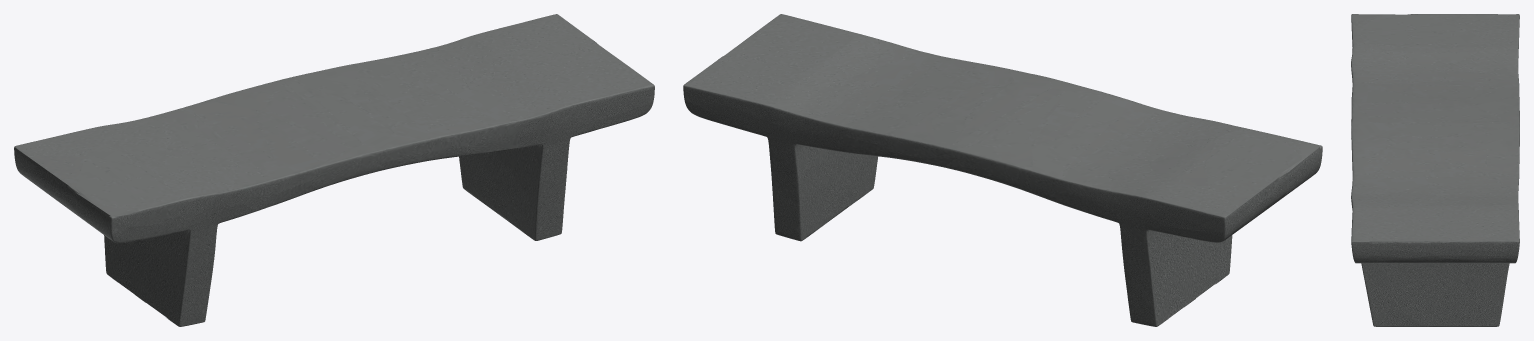
Rendered from stoneBench.glb.
The picture shows the model from 3 angles, left to right: view 1: azimuth 30°, elevation 25°; view 2: azimuth 150°, elevation 25°; view 3: azimuth 270°, elevation 25°; orthographic projection. The views are drawn at different scales.
Size of the model in its own units: 1.9 by 0.4751 by 0.5962.
Materials: 1 (1 with a texture image).
